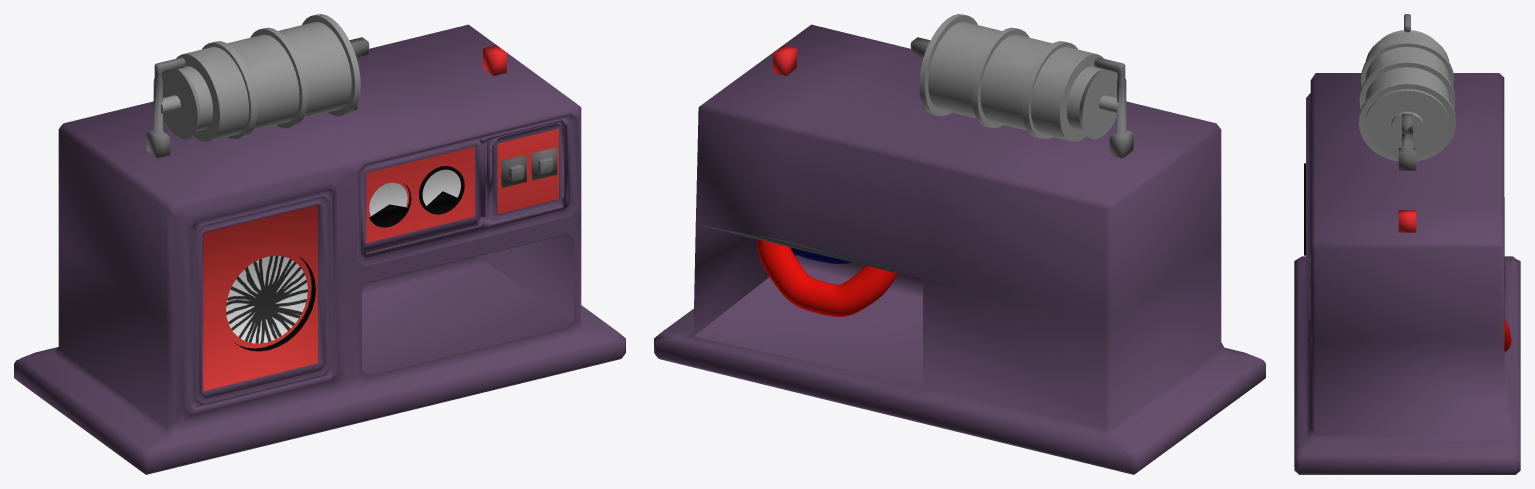
Rendered from generator-without-wire.glb.
3 renders of one model, left to right at view 1: azimuth 30°, elevation 25°; view 2: azimuth 150°, elevation 25°; view 3: azimuth 270°, elevation 25°, orthographic. The views are drawn at different scales.
Visible parts, largest first — view 1: Cube, Cylinder, Circle, Circle.002, Cube.006, Circle.001, Cube.007; view 2: Cube, Cylinder, Plane.001, Cube.006, Plane, Cube.007; view 3: Cube, Cylinder, Cube.005, Cube.007.
Part boxes in pixels (<box>): Cube: <box>14,24,625,474</box>; Cylinder: <box>161,14,360,141</box>; Circle: <box>226,255,315,351</box>; Circle.002: <box>419,166,464,214</box>; Cube.006: <box>146,57,185,158</box>; Circle.001: <box>369,182,411,227</box>; Cube.007: <box>483,45,506,75</box>; Cube: <box>654,24,1265,474</box>; Cylinder: <box>919,14,1118,141</box>; Plane.001: <box>757,239,897,316</box>; Cube.006: <box>1094,57,1133,158</box>; Plane: <box>702,225,1052,310</box>; Cube.007: <box>773,45,796,75</box>; Cube: <box>1294,73,1520,474</box>; Cylinder: <box>1358,30,1456,161</box>; Cube.005: <box>1398,113,1416,170</box>; Cube.007: <box>1398,210,1416,232</box>.
Size of the model in its own units: 2.78 by 1.91 by 1.32.
Materials: 19 (1 with a texture image).
